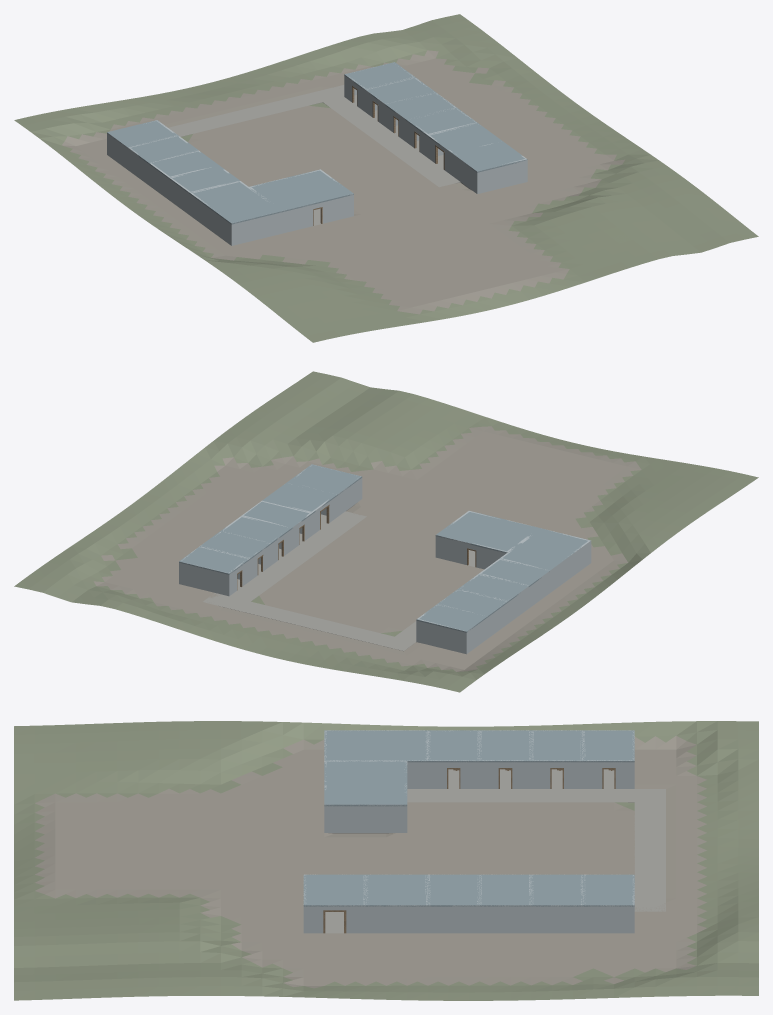
The model's file is saved-earthworks.glb.
The picture shows the model from 3 angles, top to bottom: view 1: azimuth 30°, elevation 25°; view 2: azimuth 150°, elevation 25°; view 3: azimuth 270°, elevation 25°; orthographic projection. The views are drawn at different scales.
Visible parts, largest first — view 1: Saved editor geographic earthworks WLD-16, WLD-16 eastwalk continuous founded floor region0, Ceiling cap office, Ceiling cap manager, WLD-16 northwalk continuous founded floor region0, Ceiling cap plant, Ceiling cap laundry, WLD-16 clean plant S end, WLD-16 clean manager S end, Ceiling cap room5, Ceiling cap room6, Ceiling cap room7 (+9 smaller); view 2: Saved editor geographic earthworks WLD-16, WLD-16 eastwalk continuous founded floor region0, WLD-16 northwalk continuous founded floor region0, Ceiling cap office, Ceiling cap manager, Ceiling cap plant, Ceiling cap laundry, WLD-16 clean room1 N end, WLD-16 clean room5 N end, Ceiling cap room5, Ceiling cap room1, Ceiling cap room2 (+8 smaller); view 3: Saved editor geographic earthworks WLD-16, Ceiling cap office, WLD-16 northwalk continuous founded floor region0, Ceiling cap manager, WLD-16 westwalk continuous founded floor region0, WLD-16 clean office E end, Ceiling cap laundry, Ceiling cap plant, Ceiling cap room3, Ceiling cap room7, Ceiling cap room1, Ceiling cap room2 (+18 smaller).
Part boxes in pixels (x1,y1,x2,y2): Saved editor geographic earthworks WLD-16: [14, 14, 758, 342]; WLD-16 eastwalk continuous founded floor region0: [323, 97, 460, 187]; Ceiling cap office: [249, 170, 353, 212]; Ceiling cap manager: [190, 181, 281, 224]; WLD-16 northwalk continuous founded floor region0: [168, 88, 343, 136]; Ceiling cap plant: [452, 141, 527, 172]; Ceiling cap laundry: [427, 123, 501, 153]; WLD-16 clean plant S end: [476, 158, 527, 193]; WLD-16 clean manager S end: [230, 211, 281, 245]; Ceiling cap room5: [344, 62, 414, 89]; Ceiling cap room6: [365, 77, 435, 105]; Ceiling cap room7: [386, 92, 456, 120]; Saved editor geographic earthworks WLD-16: [14, 371, 758, 692]; WLD-16 eastwalk continuous founded floor region0: [229, 511, 366, 601]; WLD-16 northwalk continuous founded floor region0: [217, 596, 415, 651]; Ceiling cap office: [435, 512, 540, 553]; Ceiling cap manager: [500, 528, 590, 571]; Ceiling cap plant: [287, 464, 362, 495]; Ceiling cap laundry: [262, 482, 337, 513]; WLD-16 clean room1 N end: [416, 618, 467, 654]; WLD-16 clean room5 N end: [179, 562, 230, 596]; Ceiling cap room5: [179, 546, 249, 574]; Ceiling cap room1: [416, 604, 487, 632]; Ceiling cap room2: [437, 589, 508, 617]; Saved editor geographic earthworks WLD-16: [14, 721, 758, 1000]; Ceiling cap office: [324, 761, 407, 806]; WLD-16 northwalk continuous founded floor region0: [634, 789, 665, 902]; Ceiling cap manager: [324, 730, 427, 762]; WLD-16 westwalk continuous founded floor region0: [407, 789, 634, 802]; WLD-16 clean office E end: [327, 804, 404, 832]; Ceiling cap laundry: [365, 874, 427, 906]; Ceiling cap plant: [303, 874, 365, 906]; Ceiling cap room3: [479, 730, 531, 762]; Ceiling cap room7: [479, 874, 531, 906]; Ceiling cap room1: [583, 730, 634, 762]; Ceiling cap room2: [531, 730, 582, 762].
Size of the model in its own units: 62 by 3.75 by 72.
20 materials, 13 textured.
